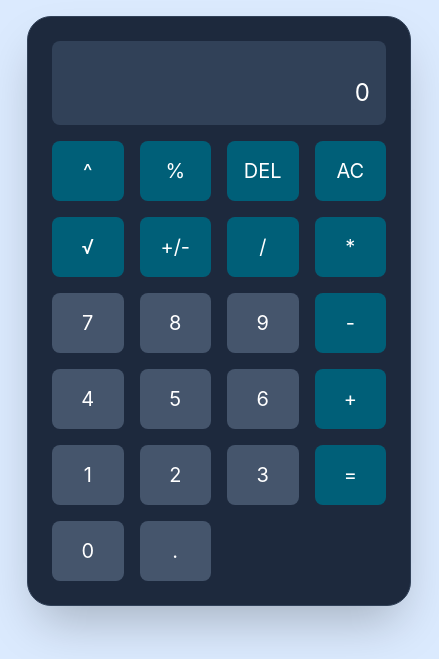
Test: App › shows the server result string exactly as returned
This screenshot has width=439, height=659.
Click the button "9" at (263, 323), box [227,293,298,353]
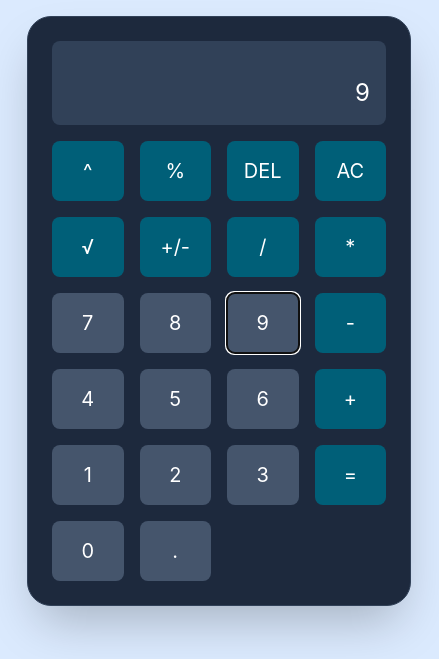
Click the button "^" at (88, 171), box [52,141,124,201]
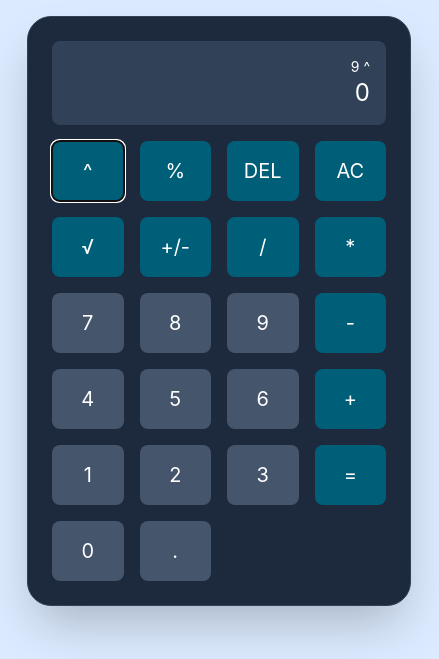
Click the button "9" at (263, 323), box [227,293,298,353]
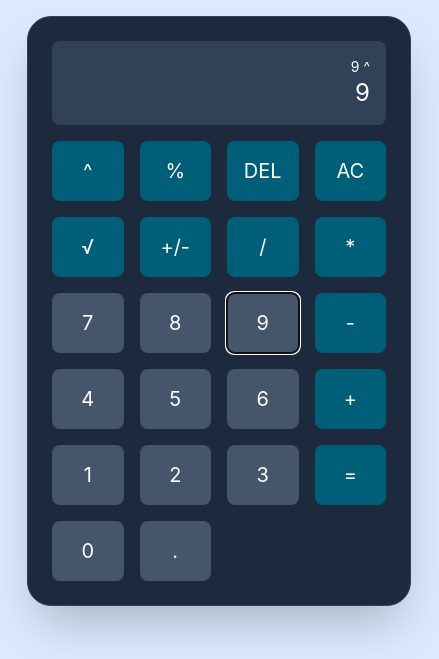
Click the button "=" at (350, 475), box [314,445,386,505]
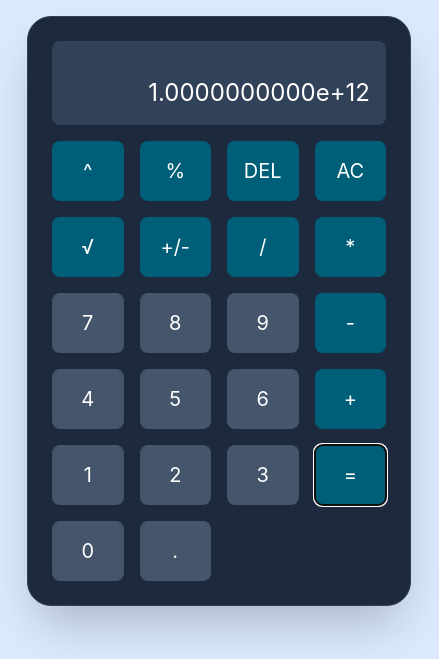
expect the text with test id "display-value" reads "1.0000000000e+12": met, box [148,78,370,107]
